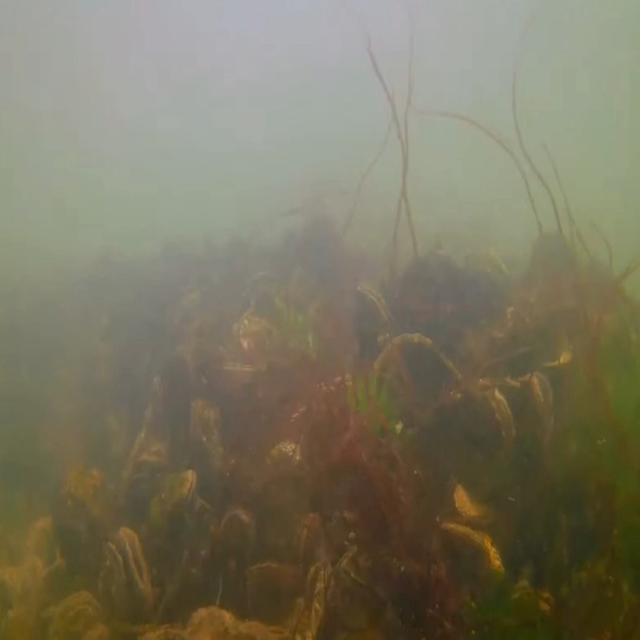Oyster-Closed: (355, 278, 394, 381), (144, 469, 198, 530), (216, 352, 266, 390)
Oyster-Indeterminate: (372, 331, 463, 413), (434, 383, 516, 464), (474, 373, 556, 450), (438, 520, 506, 582), (130, 372, 166, 471), (188, 394, 225, 480), (46, 591, 104, 640), (454, 480, 504, 526), (128, 439, 172, 479)
Oyster-Open: (99, 526, 155, 640), (301, 557, 335, 640)
